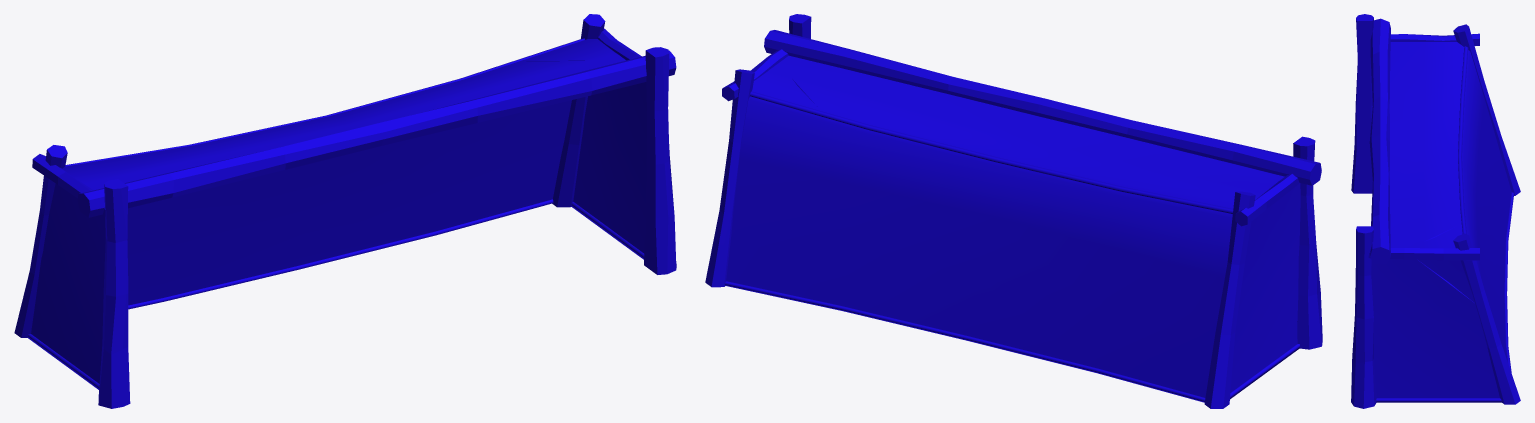
File: Gates_3D_V1.fbx
3 renders of one model, left to right at view 1: azimuth 30°, elevation 25°; view 2: azimuth 150°, elevation 25°; view 3: azimuth 270°, elevation 25°, orthographic. The views are drawn at different scales.
Visible parts, largest first — view 1: Cube; view 2: Cube; view 3: Cube.
Part boxes in pixels (x1,y1,x2,y2): Cube: (14,14,676,408); Cube: (705,14,1322,408); Cube: (1351,14,1520,408).
Bounding box in the file's own units: 784 × 276 × 246.
